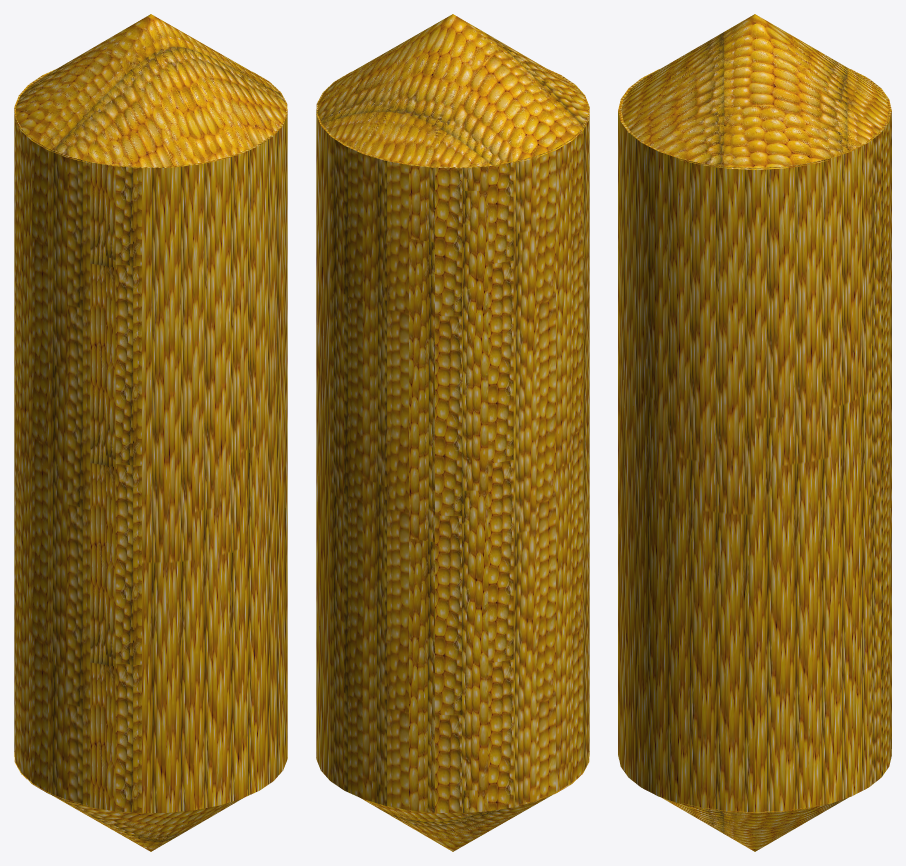
The model's file is corn.fbx.
3 views of the same model, side by side, from view 1: azimuth 30°, elevation 25°; view 2: azimuth 150°, elevation 25°; view 3: azimuth 270°, elevation 25° (orthographic).
Visible parts, largest first — view 1: Cone; view 2: Cone; view 3: Cone.
Boxes of the visible parts, box(x1,y1,x2,y2) form: Cone: box(14, 14, 287, 851); Cone: box(316, 14, 589, 851); Cone: box(618, 14, 891, 851).
Size of the model in its own units: 4.6 by 15.44 by 4.57.
1 material, 1 textured.
